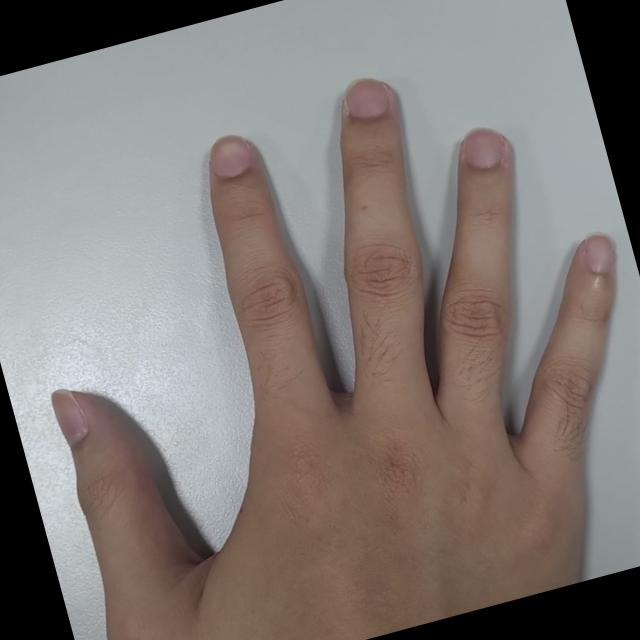Nail: (50, 387, 86, 446), (344, 76, 389, 116), (211, 134, 252, 176), (462, 126, 505, 166), (583, 232, 616, 272)
